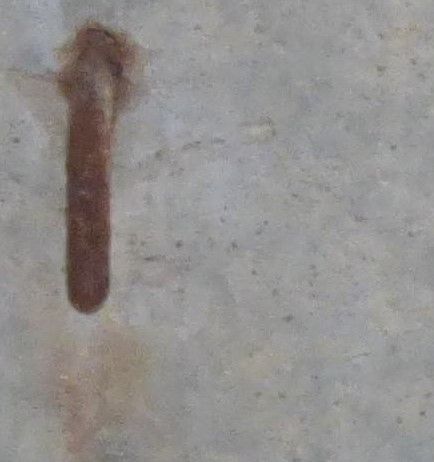Exposed reinforcement: (66, 48, 116, 315)
